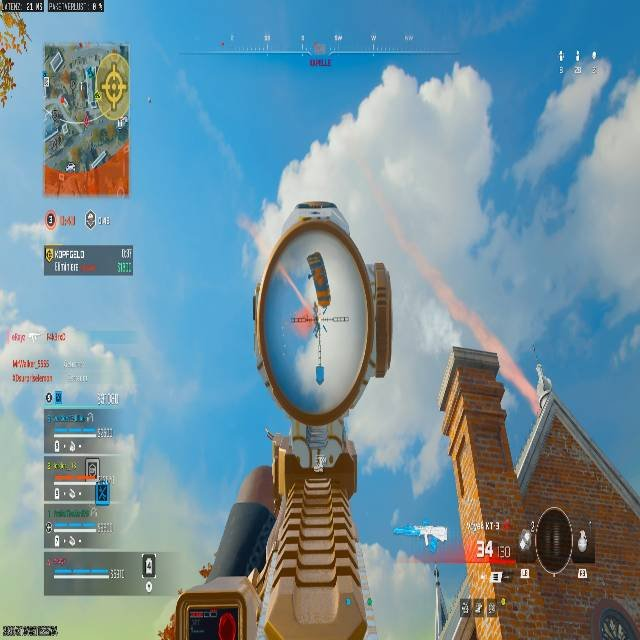head: (245, 208, 394, 423)
